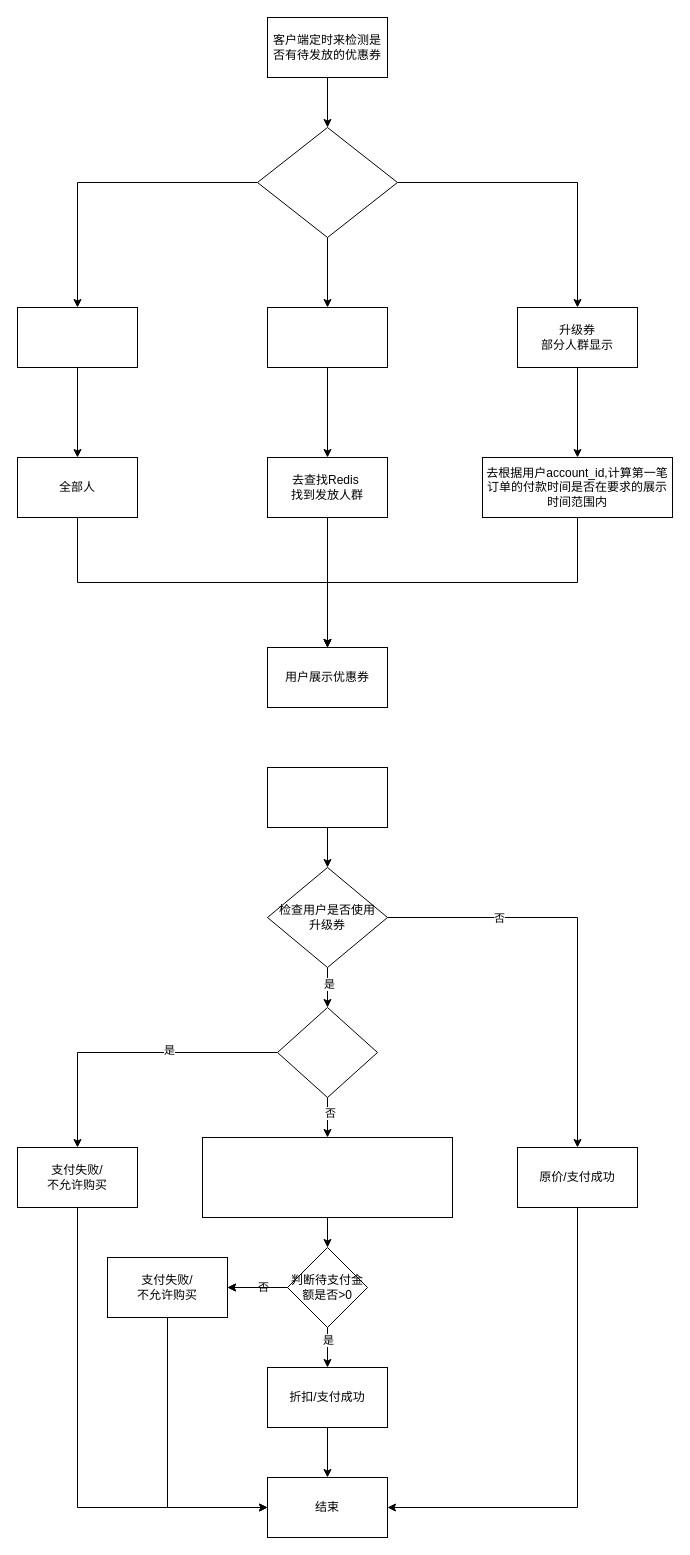
Image size: 690x1555. Some labels were removed from this diagram. Here are the shapes that lost their labels. From the top down, the centre of each, then its label:
At (327,182): "遍历所有复合 发放时间内的券".
At (77,337): "全量发放 全部人群显示".
At (327,337): "定向人群发放 部分人群显示".
At (327,797): "用户进入联合会员购买页".
At (327,1052): "检查支付成功订单数是否大于1".
At (327,1177): "计算实际支付金额 支付金额 = 套餐原价*折扣价-原订单支付价".
